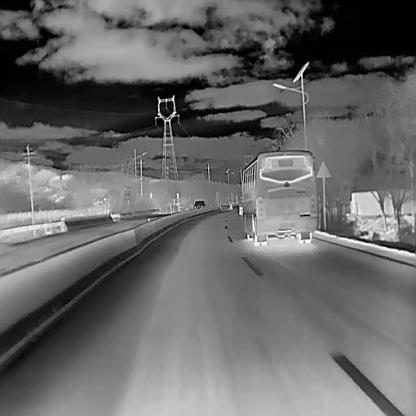bus: (235, 144, 319, 250)
car: (191, 195, 206, 213)
